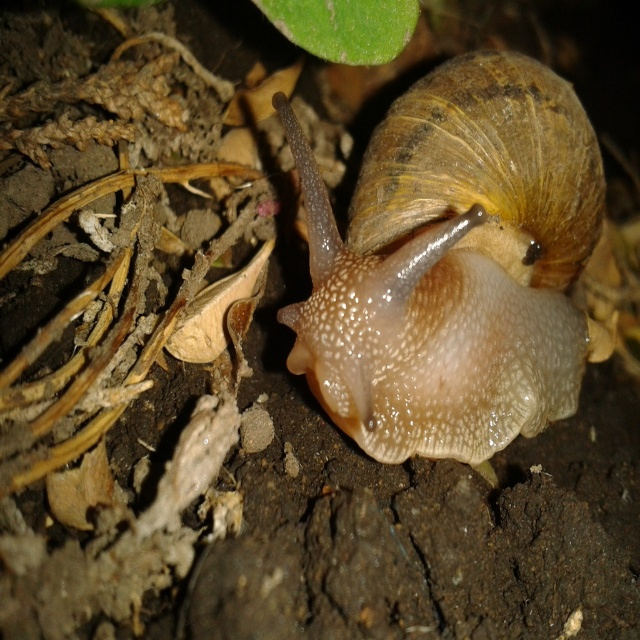Snail: (272, 50, 605, 466)
